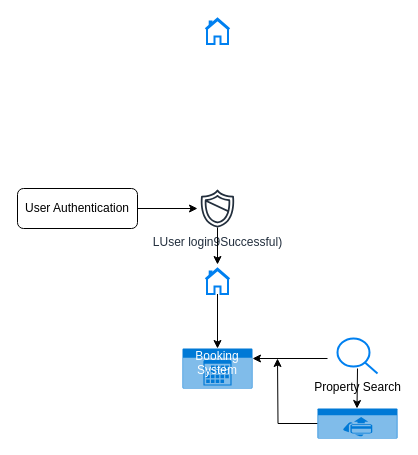
Some shapes in this 418 by 455 pixel diagram are drawn without their labels. Each missing label, with the centre of its shape:
Payment: the point at 357,423
Proerty Management: the point at 217,280
